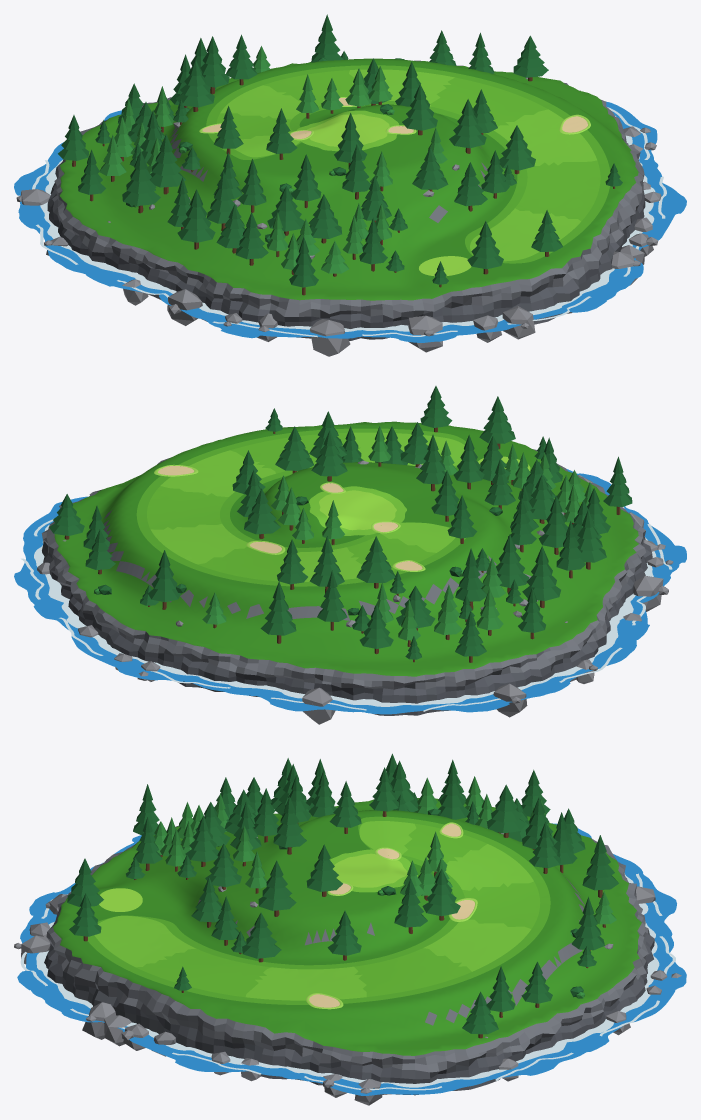
File: hole_13.fbx
3 views of the same model, one above another, from view 1: azimuth 30°, elevation 25°; view 2: azimuth 150°, elevation 25°; view 3: azimuth 270°, elevation 25° (orthographic). The views are drawn at different scales.
Parts seen in each view (by area): view 1: TERRAIN_ISLAND_1, TREES, FAIRWAY, WATER_SHALLOW_1, ROCKS, FAIRWAY_FIRSTCUT, WATER_FOAM_1, GREEN_1, WATER_FOAM_CREST_1, GREEN_APRON_1, TEE_BOX; view 2: TERRAIN_ISLAND_1, TREES, FAIRWAY, WATER_SHALLOW_1, FAIRWAY_FIRSTCUT, ROCKS, WATER_FOAM_1, GREEN_1, WATER_FOAM_CREST_1, GREEN_APRON_1; view 3: TERRAIN_ISLAND_1, TREES, FAIRWAY, WATER_SHALLOW_1, FAIRWAY_FIRSTCUT, ROCKS, WATER_FOAM_1, GREEN_1, WATER_FOAM_CREST_1, TEE_BOX, GREEN_APRON_1.
Boxes of the visible parts, <box> form: TERRAIN_ISLAND_1: <box>47,58,645,340</box>; TREES: <box>58,14,622,295</box>; FAIRWAY: <box>216,69,600,261</box>; WATER_SHALLOW_1: <box>14,101,686,342</box>; ROCKS: <box>16,77,661,356</box>; FAIRWAY_FIRSTCUT: <box>206,65,610,263</box>; WATER_FOAM_1: <box>40,116,655,331</box>; GREEN_1: <box>305,114,389,146</box>; WATER_FOAM_CREST_1: <box>32,107,666,337</box>; GREEN_APRON_1: <box>296,110,398,151</box>; TEE_BOX: <box>419,256,471,276</box>; TERRAIN_ISLAND_1: <box>41,421,652,715</box>; TREES: <box>49,386,632,662</box>; FAIRWAY: <box>147,432,464,581</box>; WATER_SHALLOW_1: <box>14,469,686,714</box>; FAIRWAY_FIRSTCUT: <box>136,428,465,586</box>; ROCKS: <box>37,460,673,724</box>; WATER_FOAM_1: <box>34,525,656,706</box>; GREEN_1: <box>319,490,396,530</box>; WATER_FOAM_CREST_1: <box>21,507,672,711</box>; GREEN_APRON_1: <box>309,486,406,535</box>; TERRAIN_ISLAND_1: <box>44,798,654,1095</box>; TREES: <box>67,753,618,1038</box>; FAIRWAY: <box>94,821,540,1000</box>; WATER_SHALLOW_1: <box>17,823,686,1095</box>; FAIRWAY_FIRSTCUT: <box>88,816,550,1004</box>; ROCKS: <box>14,818,681,1105</box>; WATER_FOAM_1: <box>36,873,659,1087</box>; GREEN_1: <box>333,853,407,887</box>; WATER_FOAM_CREST_1: <box>20,851,675,1090</box>; TEE_BOX: <box>99,888,142,911</box>; GREEN_APRON_1: <box>330,849,417,892</box>.
Size of what is drawn, in the model's own units: 334 by 83.26 by 324.
